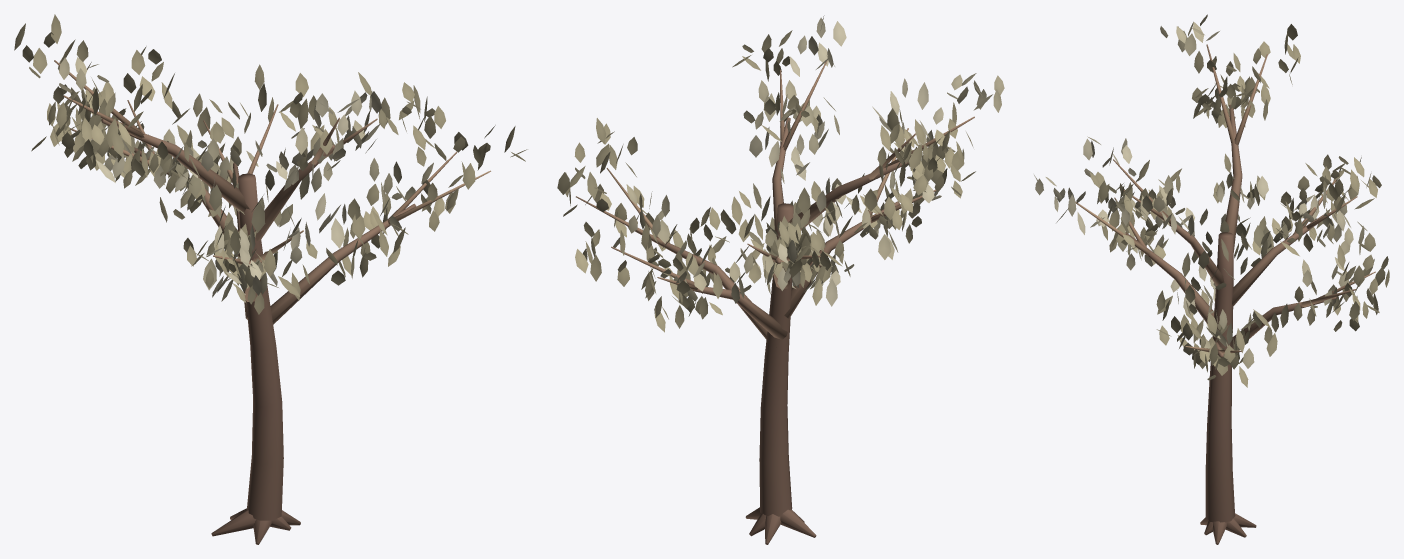
File: tree_3d_01_golden_beige.glb
The picture shows the model from 3 angles, left to right: view 1: azimuth 30°, elevation 25°; view 2: azimuth 150°, elevation 25°; view 3: azimuth 270°, elevation 25°; orthographic projection. The views are drawn at different scales.
Parts seen in each view (by area): view 1: tree_3d_01_golden_beige_foliage, tree_3d_01_golden_beige_wood; view 2: tree_3d_01_golden_beige_foliage, tree_3d_01_golden_beige_wood; view 3: tree_3d_01_golden_beige_foliage, tree_3d_01_golden_beige_wood.
Boxes of the visible parts, box(x1,y1,x2,y2) form: tree_3d_01_golden_beige_foliage: box(14, 14, 527, 314); tree_3d_01_golden_beige_wood: box(54, 60, 490, 544); tree_3d_01_golden_beige_foliage: box(557, 15, 1004, 332); tree_3d_01_golden_beige_wood: box(576, 60, 974, 544); tree_3d_01_golden_beige_foliage: box(1034, 14, 1389, 387); tree_3d_01_golden_beige_wood: box(1069, 44, 1375, 544).
Size of the model in its own units: 9.81 by 11.09 by 8.22.
